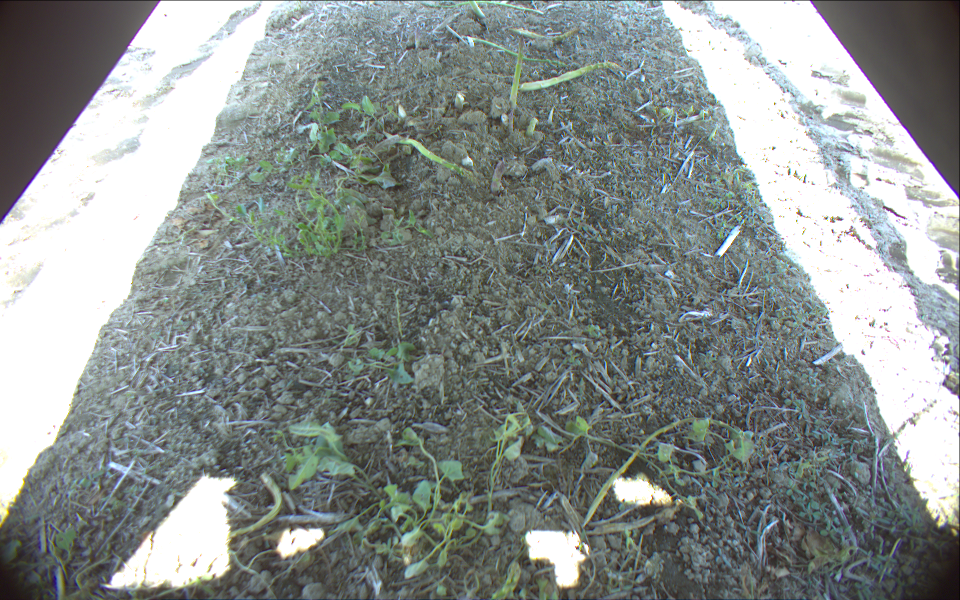aspa: (583, 417, 754, 527), (184, 473, 286, 545), (388, 135, 475, 180), (519, 60, 627, 93), (463, 36, 565, 63), (506, 36, 525, 129), (439, 1, 542, 13), (488, 158, 512, 195), (515, 27, 581, 40), (469, 1, 487, 16), (528, 117, 539, 136)
